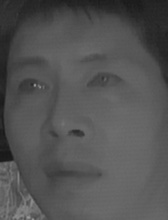eye: (84, 68, 125, 93), (13, 76, 51, 98)
mouth: (37, 157, 105, 196)
